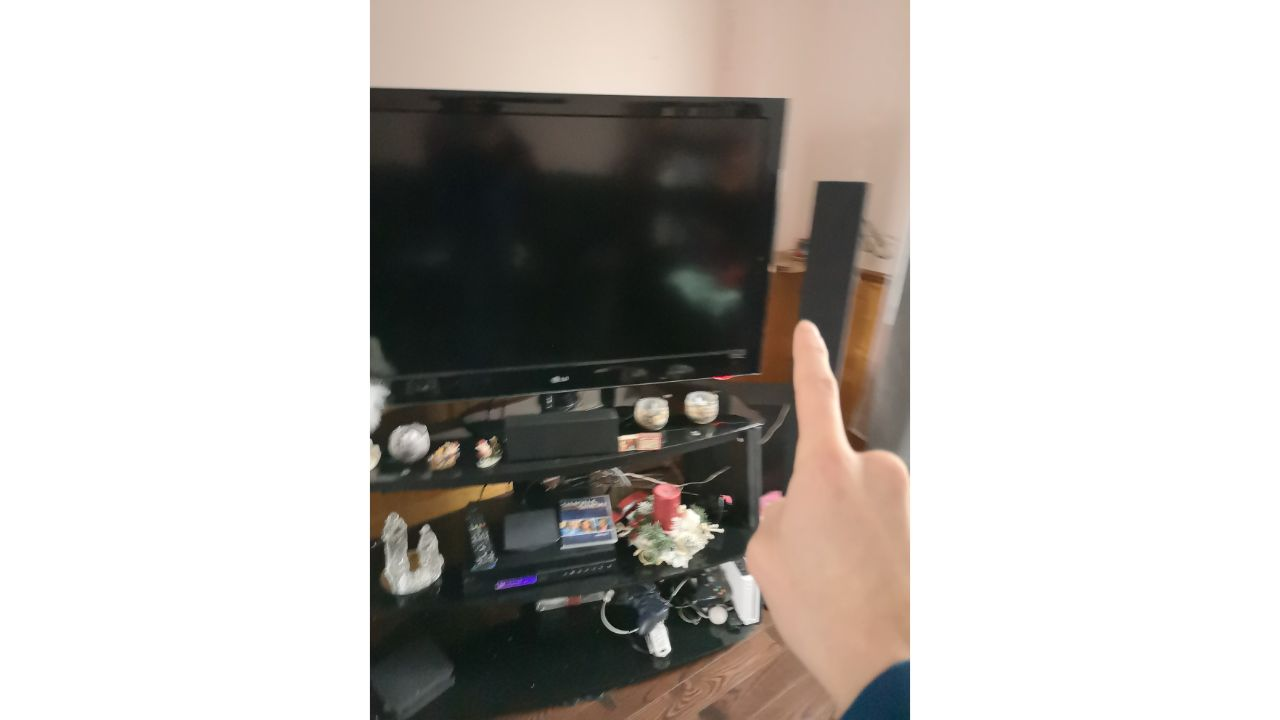finger: (750, 335, 907, 674)
tv: (368, 83, 770, 373)
